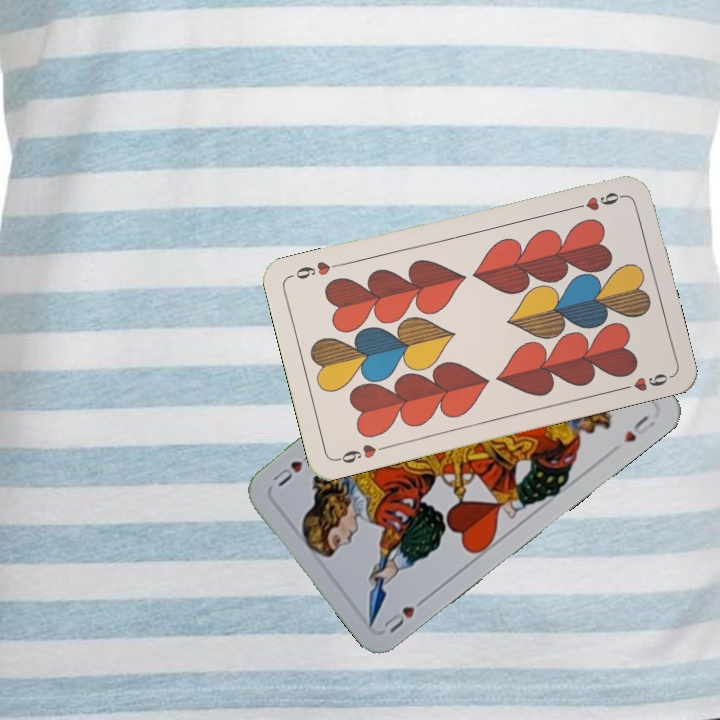H9: (332, 440, 391, 466), (568, 188, 627, 214)
HU: (378, 592, 430, 636)
